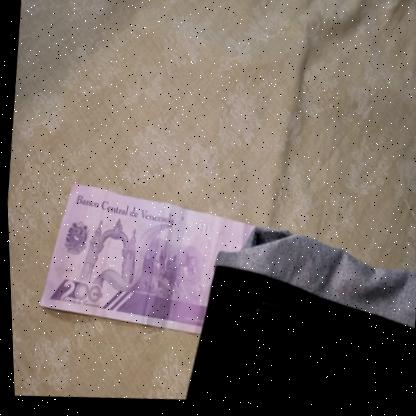one_hundred-back-vef: (28, 170, 260, 352)
